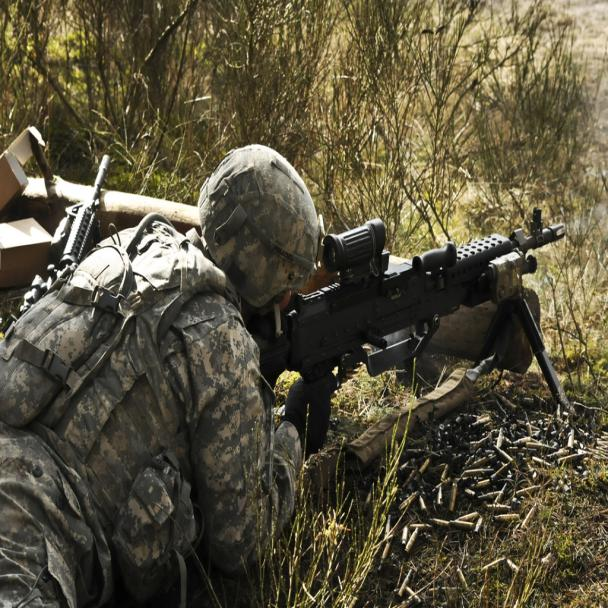Hand: (268, 201, 584, 436)
